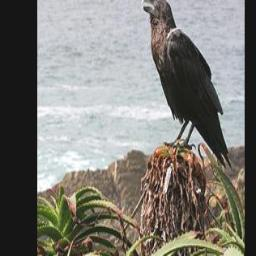Crow: (139, 0, 235, 171)
